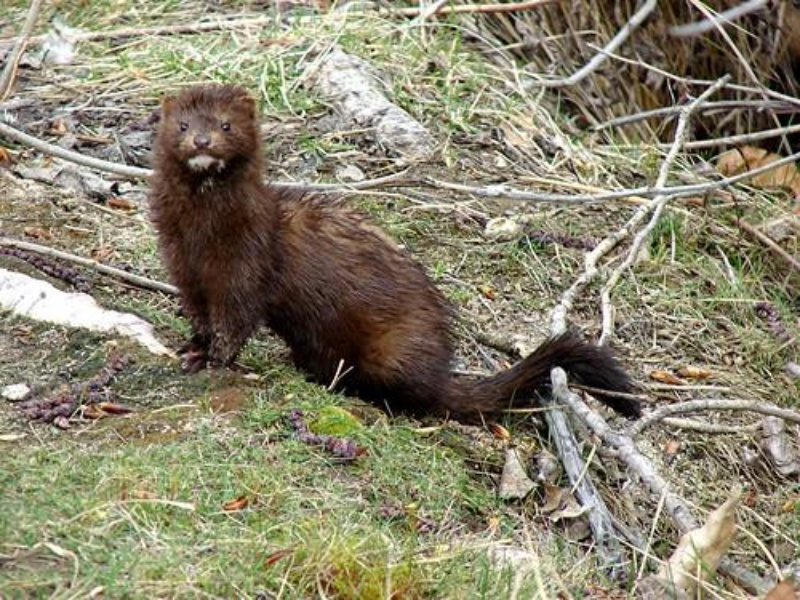minkish: (151, 79, 643, 433)
